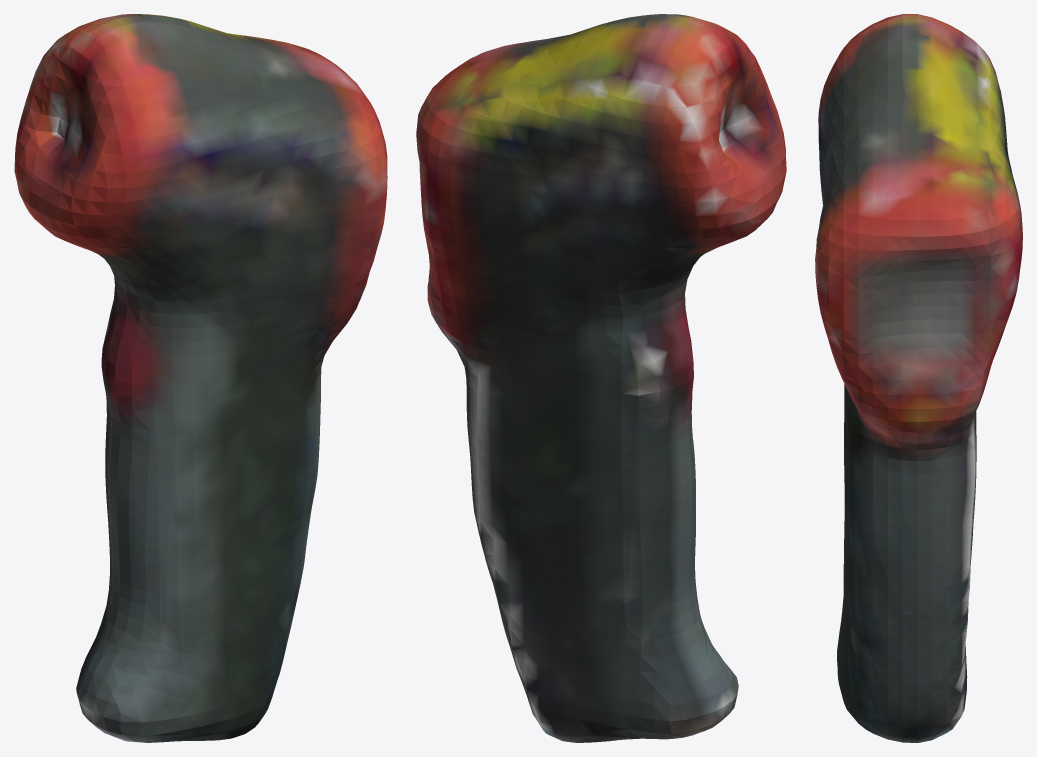
Rendered from thermometer.dae.
3 views of the same model, side by side, from view 1: azimuth 30°, elevation 25°; view 2: azimuth 150°, elevation 25°; view 3: azimuth 270°, elevation 25° (orthographic). The views are drawn at different scales.
Parts seen in each view (by area): view 1: node; view 2: node; view 3: node.
Part boxes in pixels (<box>): node: <box>14,14,387,742</box>; node: <box>416,14,786,742</box>; node: <box>815,14,1022,742</box>.
Size of the model in its own units: 0.081 by 0.1761 by 0.0491.
